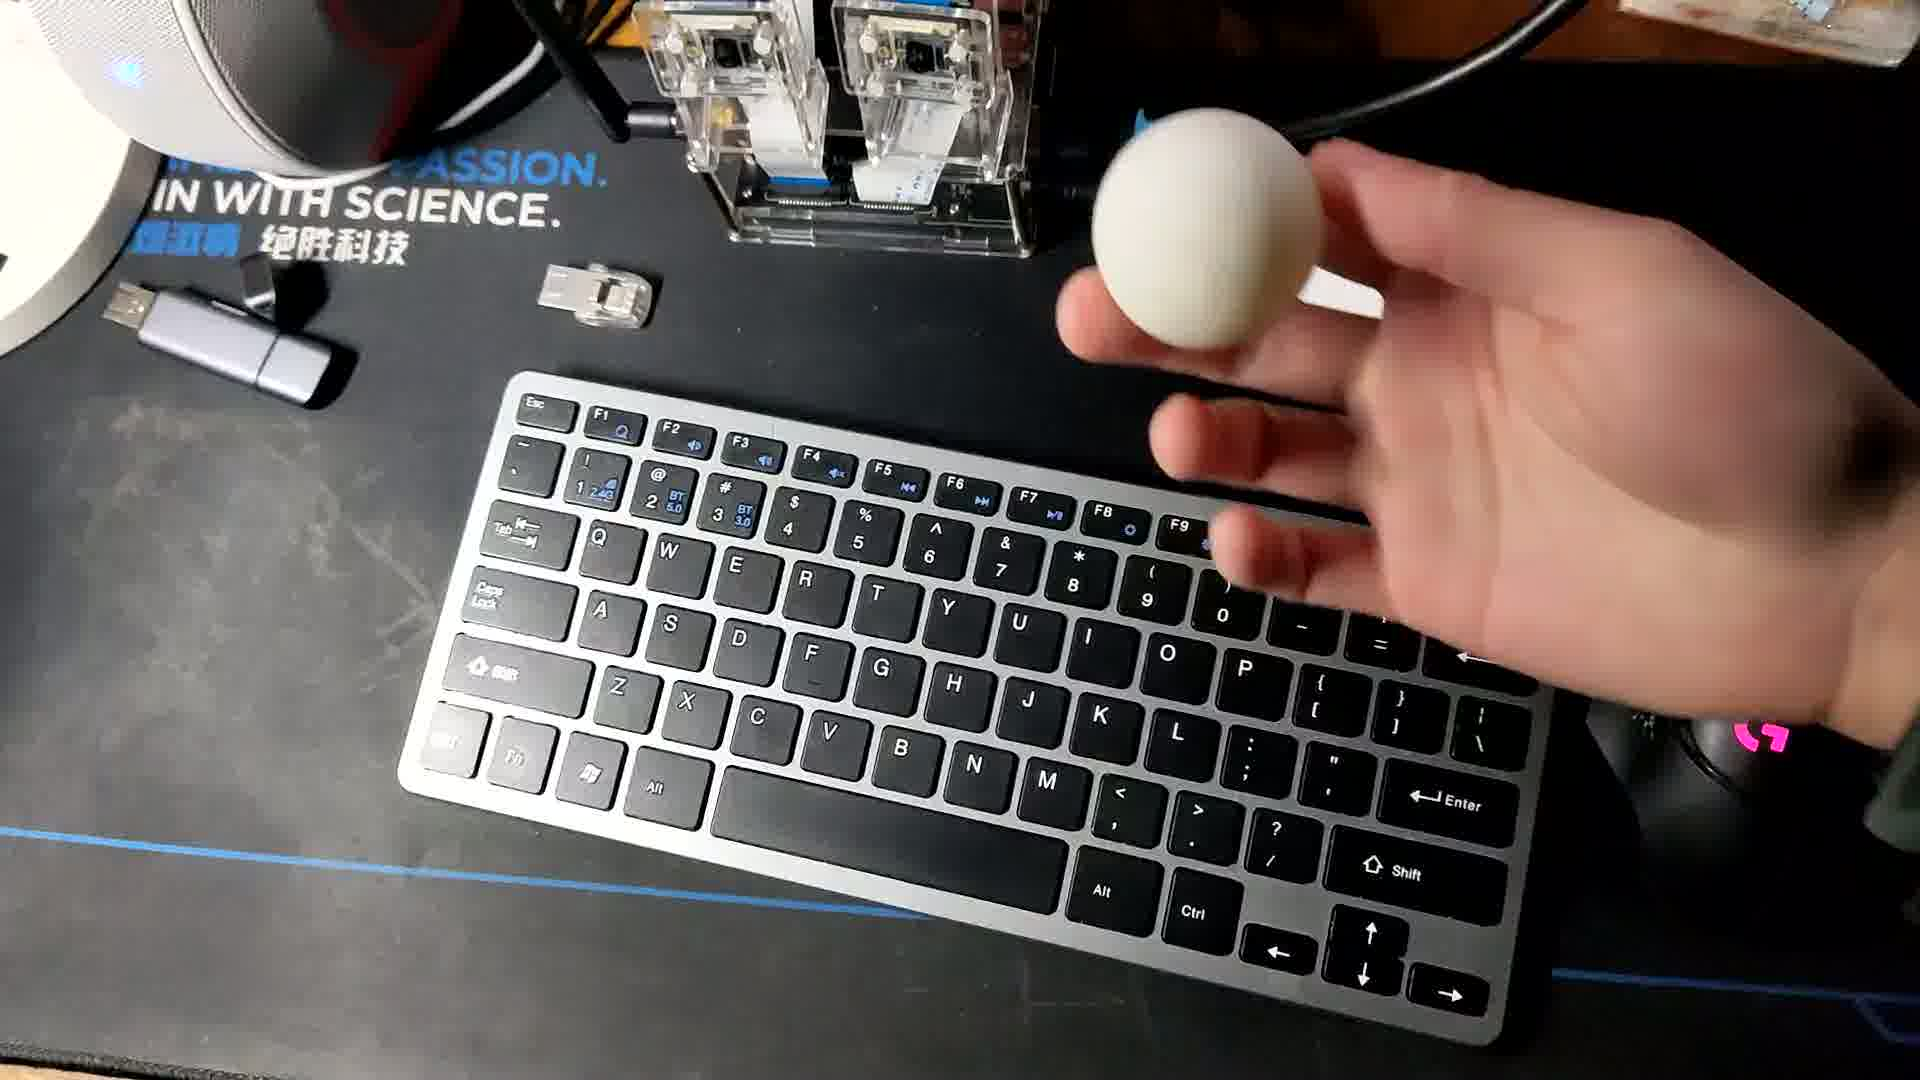Ball: (1097, 111, 1324, 349)
